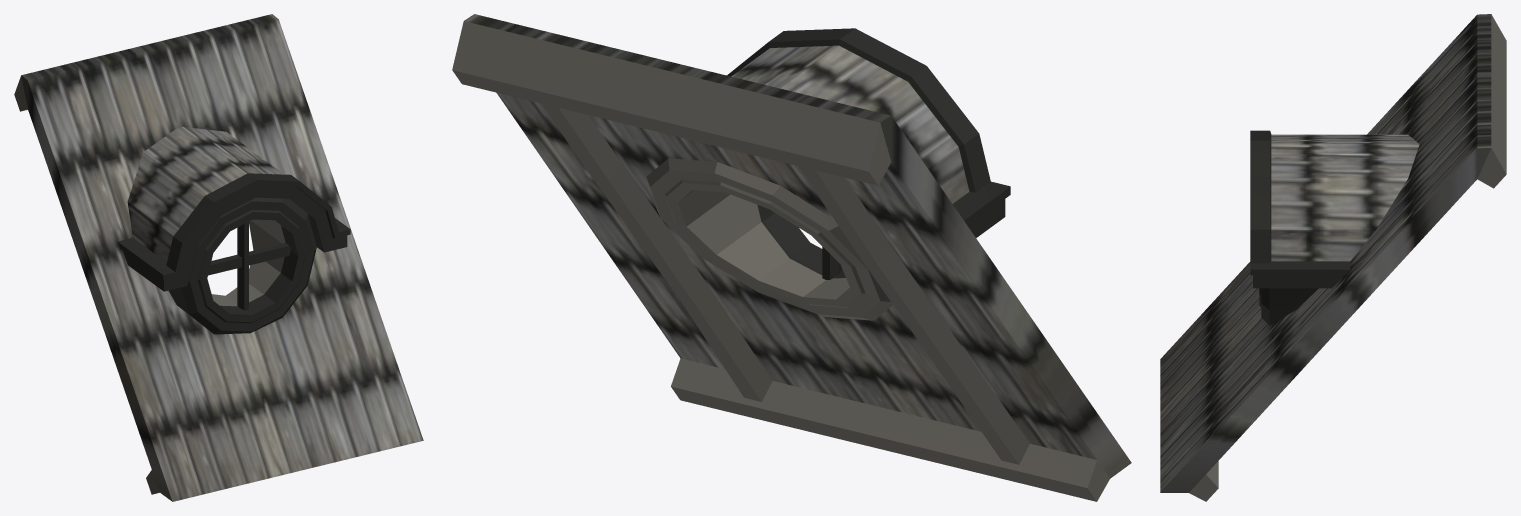
The model's file is ROOF WINDOW.fbx.
3 views of the same model, side by side, from view 1: azimuth 30°, elevation 25°; view 2: azimuth 150°, elevation 25°; view 3: azimuth 270°, elevation 25° (orthographic). The views are drawn at different scales.
Visible parts, largest first — view 1: RoofWindow; view 2: RoofWindow; view 3: RoofWindow.
Boxes of the visible parts, <box> form: RoofWindow: <box>14,14,423,501</box>; RoofWindow: <box>452,14,1131,501</box>; RoofWindow: <box>1160,14,1506,501</box>.
Bounding box in the file's own units: 250 × 308 × 273.
